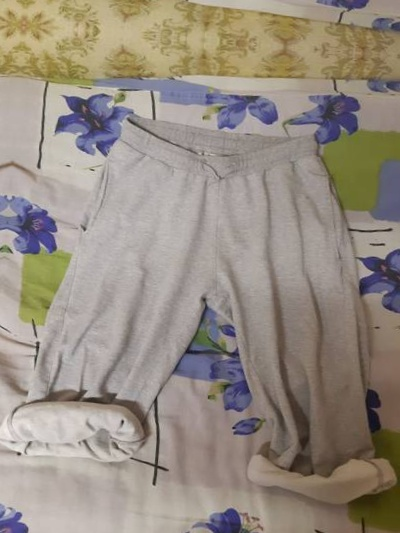Pants: (2, 96, 400, 516), (0, 61, 1, 480)
